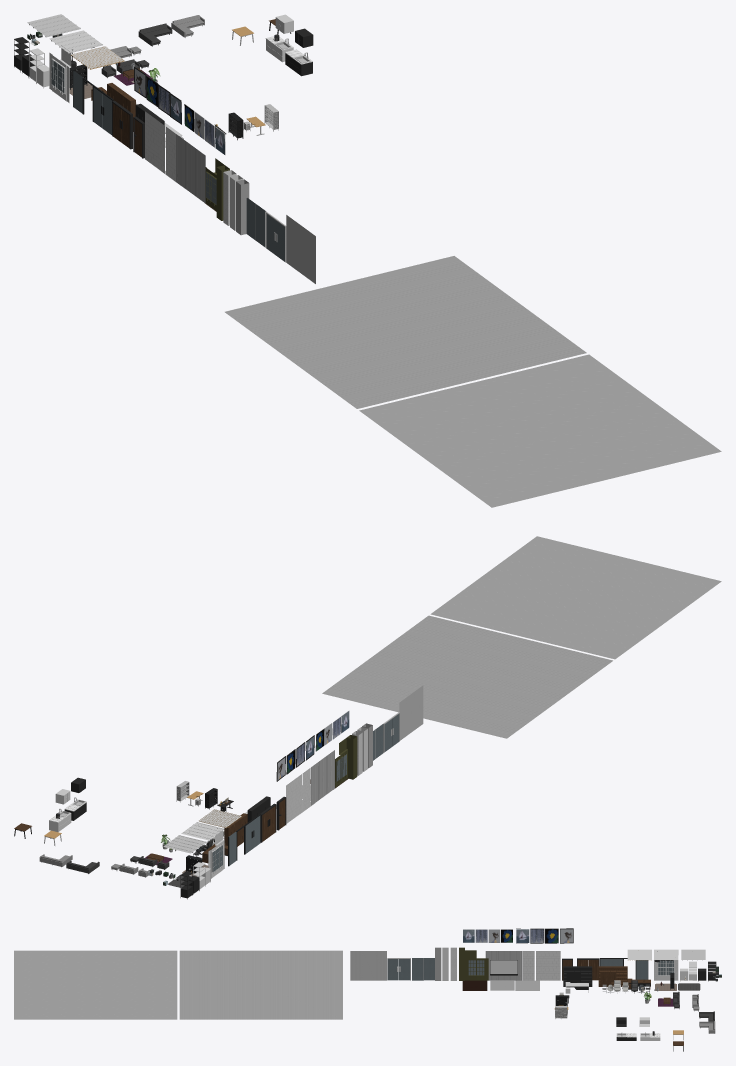
The model's file is ModernOffice.fbx.
3 views of the same model, one above another, from view 1: azimuth 30°, elevation 25°; view 2: azimuth 150°, elevation 25°; view 3: azimuth 270°, elevation 25° (orthographic). The views are drawn at different scales.
Visible parts, largest first — view 1: big tile .001, big tile, wall brick big, wall big tiles, wall big Concrete Plates, window wall; view 2: big tile .001, big tile, wall big tiles, wall brick big, wall big Concrete Plates; view 3: big tile, big tile .001, wall brick big, wall big tiles, window wall .001, window wall, big book shelf, white bord, big book shelf Dark, wall big Concrete Plates, wall small brick, wall smal tiles (+18 smaller).
Boxes of the visible parts, left/top/right/bottom form: big tile .001: left=359, top=354, right=721, bottom=507; big tile: left=225, top=256, right=586, bottom=408; wall brick big: left=145, top=111, right=164, bottom=173; wall big tiles: left=296, top=222, right=315, bottom=283; wall big Concrete Plates: left=186, top=141, right=205, bottom=203; window wall: left=49, top=52, right=69, bottom=103; big tile .001: left=430, top=536, right=721, bottom=659; big tile: left=322, top=615, right=612, bottom=738; wall big tiles: left=407, top=685, right=423, bottom=735; wall brick big: left=286, top=774, right=301, bottom=823; wall big Concrete Plates: left=319, top=750, right=334, bottom=799; big tile: left=179, top=950, right=342, bottom=1019; big tile .001: left=14, top=950, right=177, bottom=1019; wall brick big: left=536, top=951, right=560, bottom=980; wall big tiles: left=350, top=951, right=374, bottom=980; window wall .001: left=465, top=958, right=488, bottom=980; window wall: left=654, top=960, right=678, bottom=980; big book shelf: left=598, top=966, right=627, bottom=986; white bord: left=490, top=960, right=517, bottom=975; big book shelf Dark: left=563, top=966, right=592, bottom=986; wall big Concrete Plates: left=485, top=951, right=510, bottom=980; wall small brick: left=522, top=951, right=534, bottom=980; wall smal tiles: left=375, top=951, right=386, bottom=980.
Bounding box in the file's own units: 2919 × 705 × 8671.
